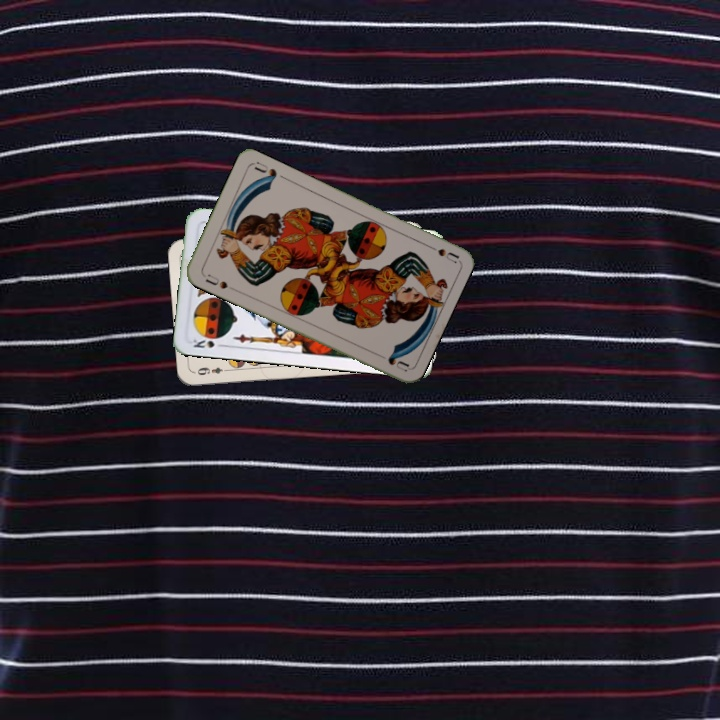E9: (193, 363, 232, 378)
SK: (189, 335, 228, 351)
SU: (421, 240, 460, 265), (199, 270, 237, 292)
